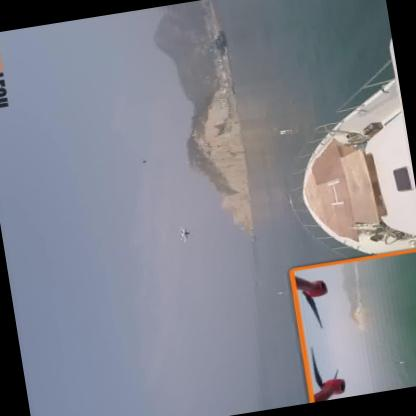drone: (173, 222, 196, 245)
